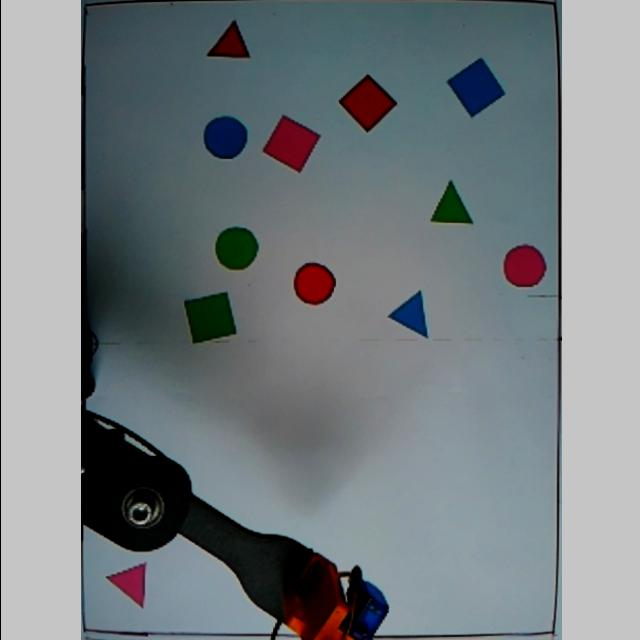blueCircle: (200, 116, 247, 160)
blueSquare: (443, 55, 505, 117)
blueTriangle: (384, 288, 428, 340)
greenCircle: (212, 224, 256, 272)
greenSquare: (180, 292, 238, 346)
greenTriangle: (424, 178, 476, 230)
pinkCircle: (498, 242, 546, 290)
pinkSquare: (258, 114, 320, 174)
pinkTriangle: (102, 562, 146, 610)
redCircle: (290, 258, 336, 306)
redSquare: (336, 74, 398, 134)
redTriangle: (202, 19, 252, 66)
